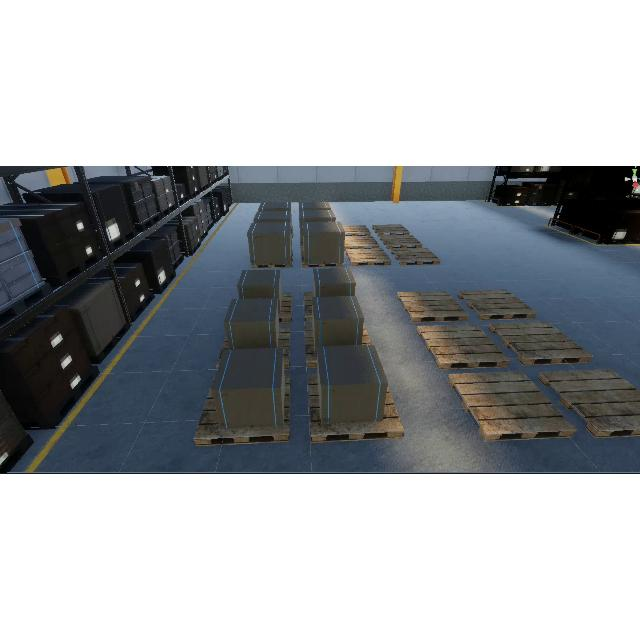wooden_pallet: (446, 370, 580, 443), (537, 366, 640, 438), (196, 372, 292, 447), (308, 374, 406, 443), (486, 320, 592, 365), (415, 324, 510, 369), (457, 288, 538, 319), (397, 291, 471, 322), (390, 247, 441, 266), (300, 246, 344, 268), (346, 249, 393, 267), (250, 249, 293, 268), (385, 234, 428, 249), (345, 235, 379, 249), (372, 224, 410, 236), (344, 225, 372, 236)
